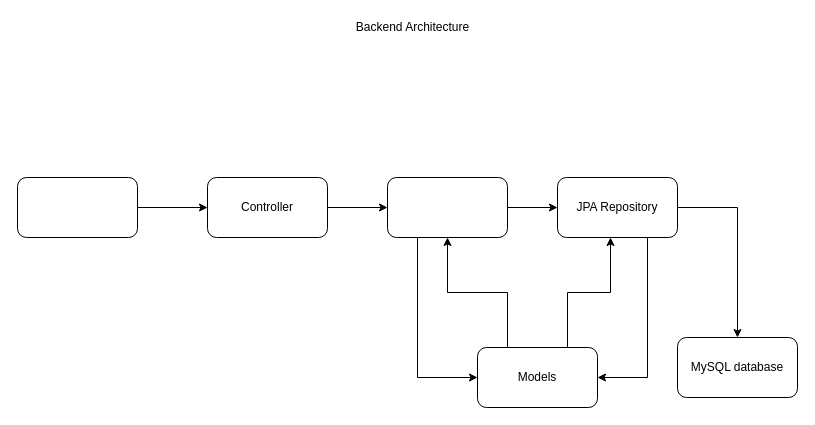
The diagram is 815 pixels wide and 425 high, and some of its shapes have lost their labels. Each missing label, with the box of its shape:
Request HTTP: (16, 176, 138, 238)
Service: (386, 176, 508, 238)
